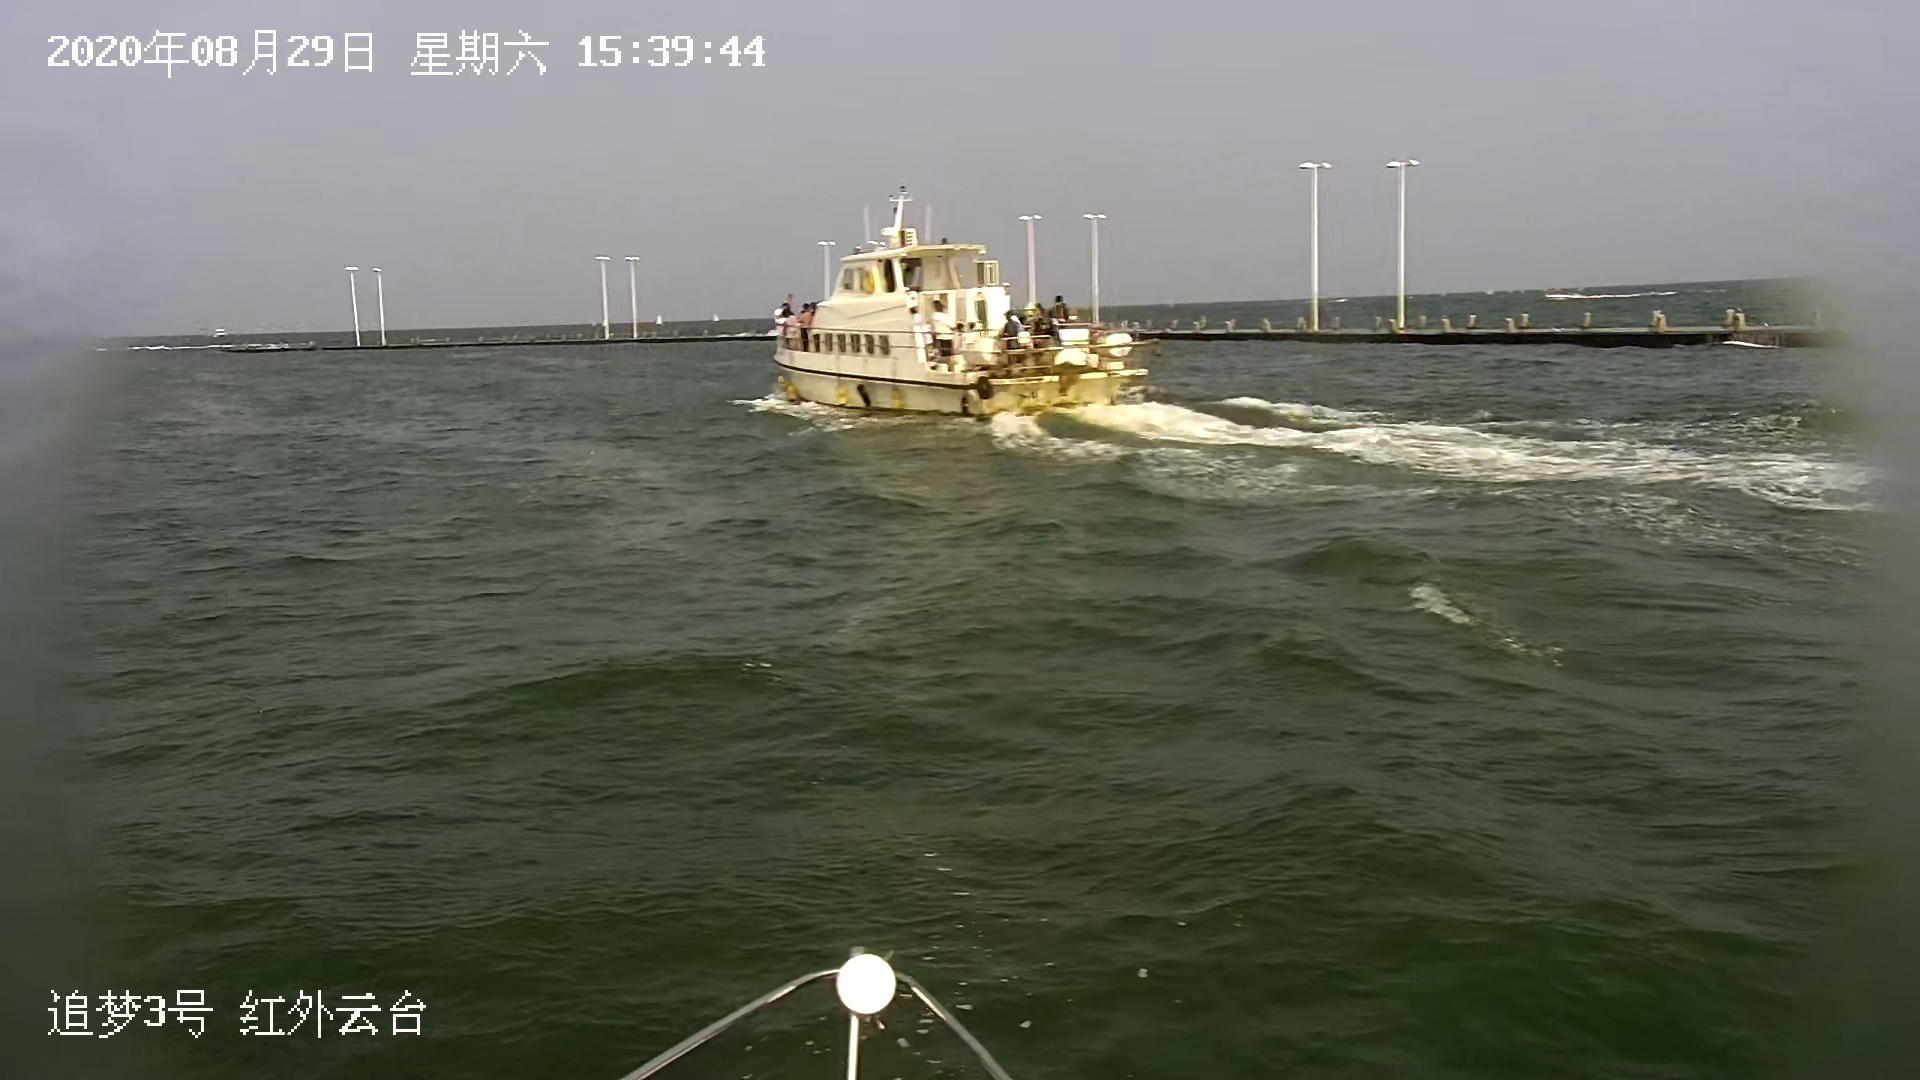barrier: (771, 178, 1153, 425), (651, 309, 662, 326), (208, 328, 229, 336), (709, 313, 720, 320)
coast: (215, 150, 1902, 356)
